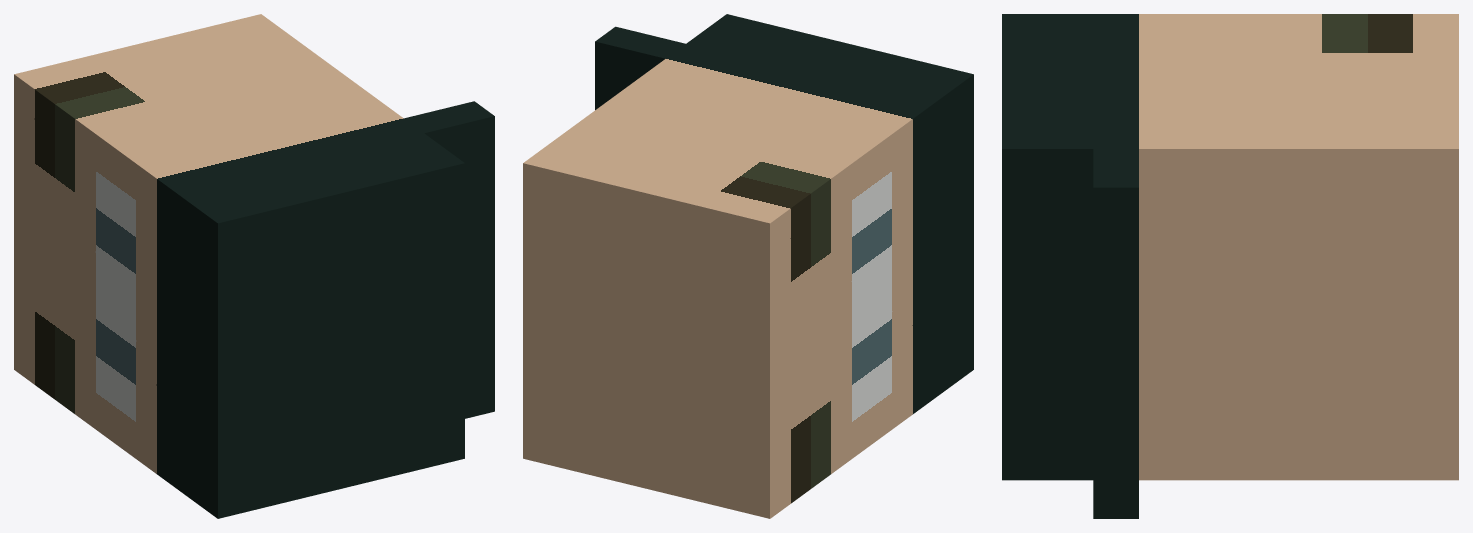
The model's file is Head5.fbx.
3 views of the same model, side by side, from view 1: azimuth 30°, elevation 25°; view 2: azimuth 150°, elevation 25°; view 3: azimuth 270°, elevation 25° (orthographic). The views are drawn at different scales.
Visible parts, largest first — view 1: Untitled.014; view 2: Untitled.014; view 3: Untitled.014.
Part boxes in pixels (<box>): Untitled.014: <box>14,14,494,518</box>; Untitled.014: <box>523,14,973,518</box>; Untitled.014: <box>1002,14,1458,518</box>.
Size of the model in its own units: 90 by 80 by 100.
